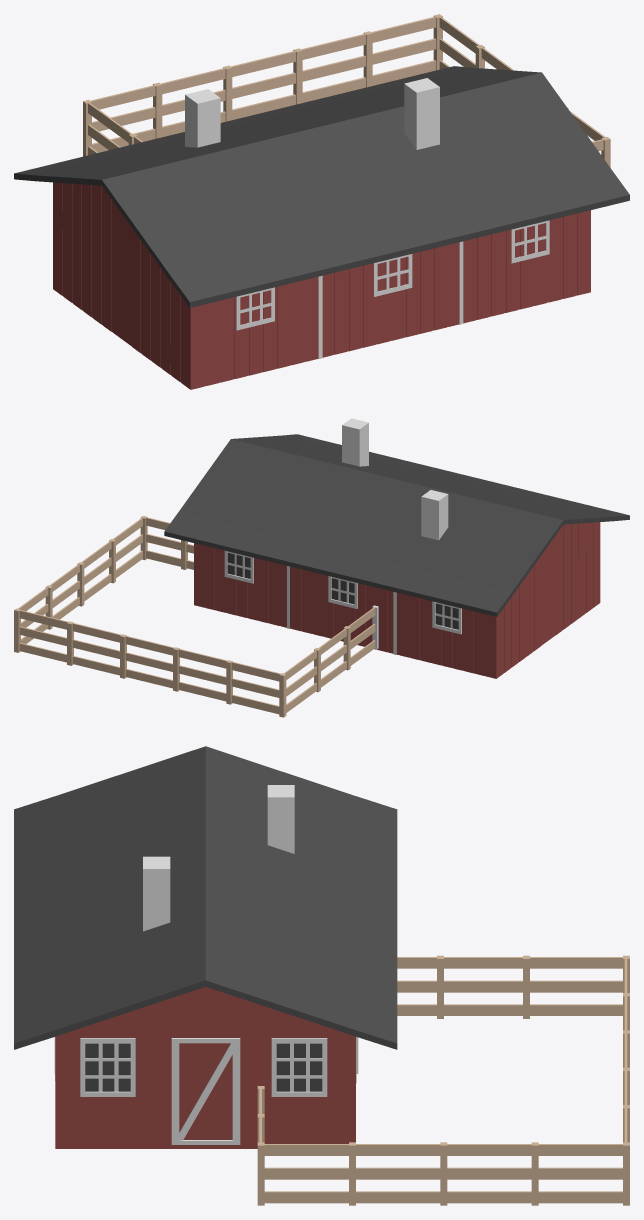
The model's file is Farm.glb.
3 renders of one model, top to bottom at view 1: azimuth 30°, elevation 25°; view 2: azimuth 150°, elevation 25°; view 3: azimuth 270°, elevation 25°, orthographic. The views are drawn at different scales.
Parts seen in each view (by area): view 1: Object002, Box20286, Box20323, Box20264, Box20260, Box20259, Box20328, Box20314, Box20327; view 2: Object002, Box20286, Box20323, Box20260, Box20264, Box20328, Box20259, Box20314, Box20320, Box20324, Box20327, Box20261 (+2 smaller); view 3: Object002, Box20286, Box20320, Box20324, Box20314, Box20261, Box20256, Box20327, Box20287, Box20259, Box20328, Plane010 (+5 smaller).
Boxes of the visible parts, x1,y1,x2,y2 form: Object002: [14, 66, 629, 307]; Box20286: [53, 182, 590, 389]; Box20323: [90, 16, 436, 109]; Box20264: [92, 38, 436, 131]; Box20260: [92, 60, 436, 152]; Box20259: [404, 78, 439, 149]; Box20328: [185, 89, 220, 147]; Box20314: [439, 17, 604, 140]; Box20327: [88, 102, 142, 143]; Object002: [164, 434, 629, 616]; Box20286: [194, 522, 600, 678]; Box20323: [19, 610, 280, 681]; Box20260: [19, 643, 279, 714]; Box20264: [19, 626, 279, 697]; Box20328: [421, 490, 448, 540]; Box20259: [342, 418, 368, 466]; Box20314: [18, 518, 142, 611]; Box20320: [21, 534, 142, 627]; Box20324: [21, 551, 142, 643]; Box20327: [284, 607, 375, 679]; Box20261: [286, 624, 375, 696]; Object002: [14, 746, 397, 1049]; Box20286: [55, 987, 355, 1148]; Box20320: [264, 1167, 622, 1179]; Box20324: [264, 1191, 622, 1203]; Box20314: [264, 1144, 622, 1155]; Box20261: [397, 980, 622, 992]; Box20256: [397, 1004, 622, 1015]; Box20327: [397, 957, 622, 968]; Box20287: [171, 1038, 240, 1144]; Box20259: [143, 856, 170, 931]; Box20328: [267, 785, 294, 853]; Plane010: [85, 1043, 130, 1091].
Bounding box in the file's own units: 14992 × 5467 × 13778.
